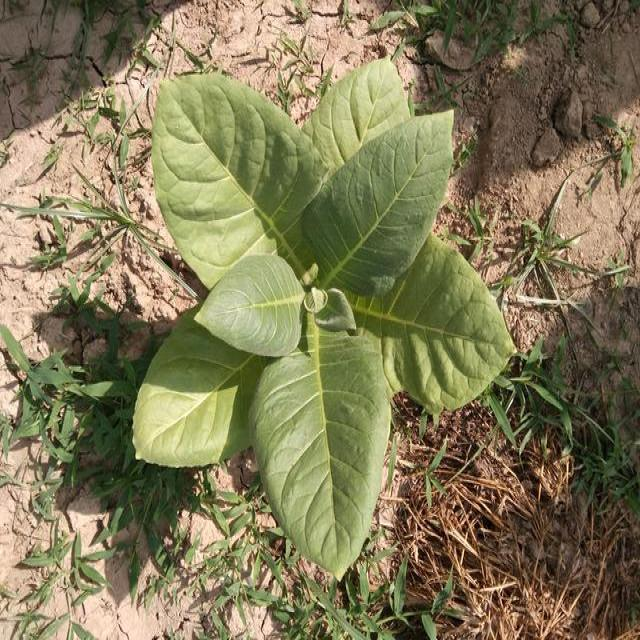crop: (134, 64, 516, 589)
